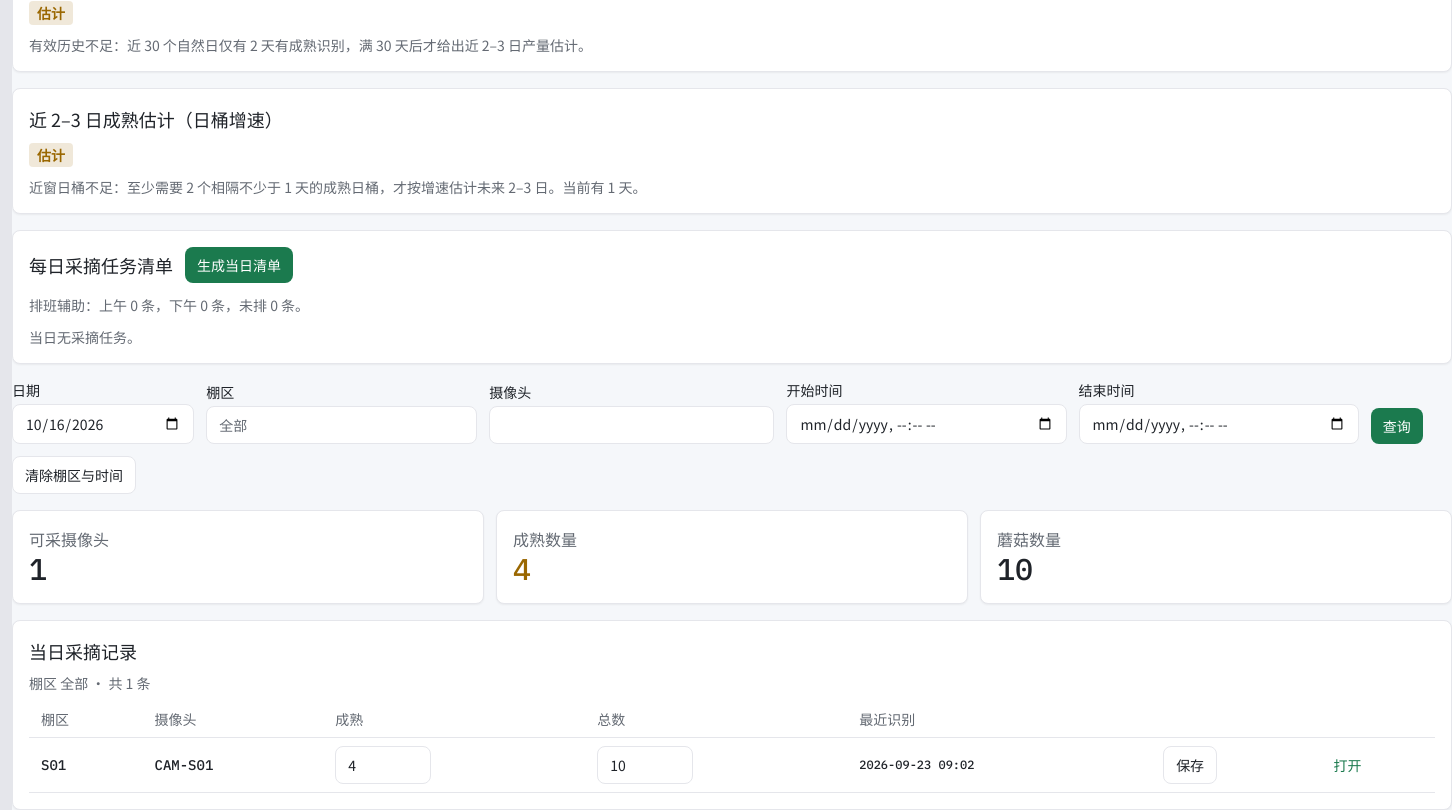
Scenario: HarvestView correction › keeps the table when saving fails
(page scrolled)
Replace the text in the number field named "CAM-S01 成熟数" with "6": (383, 765) [335,746,431,784]
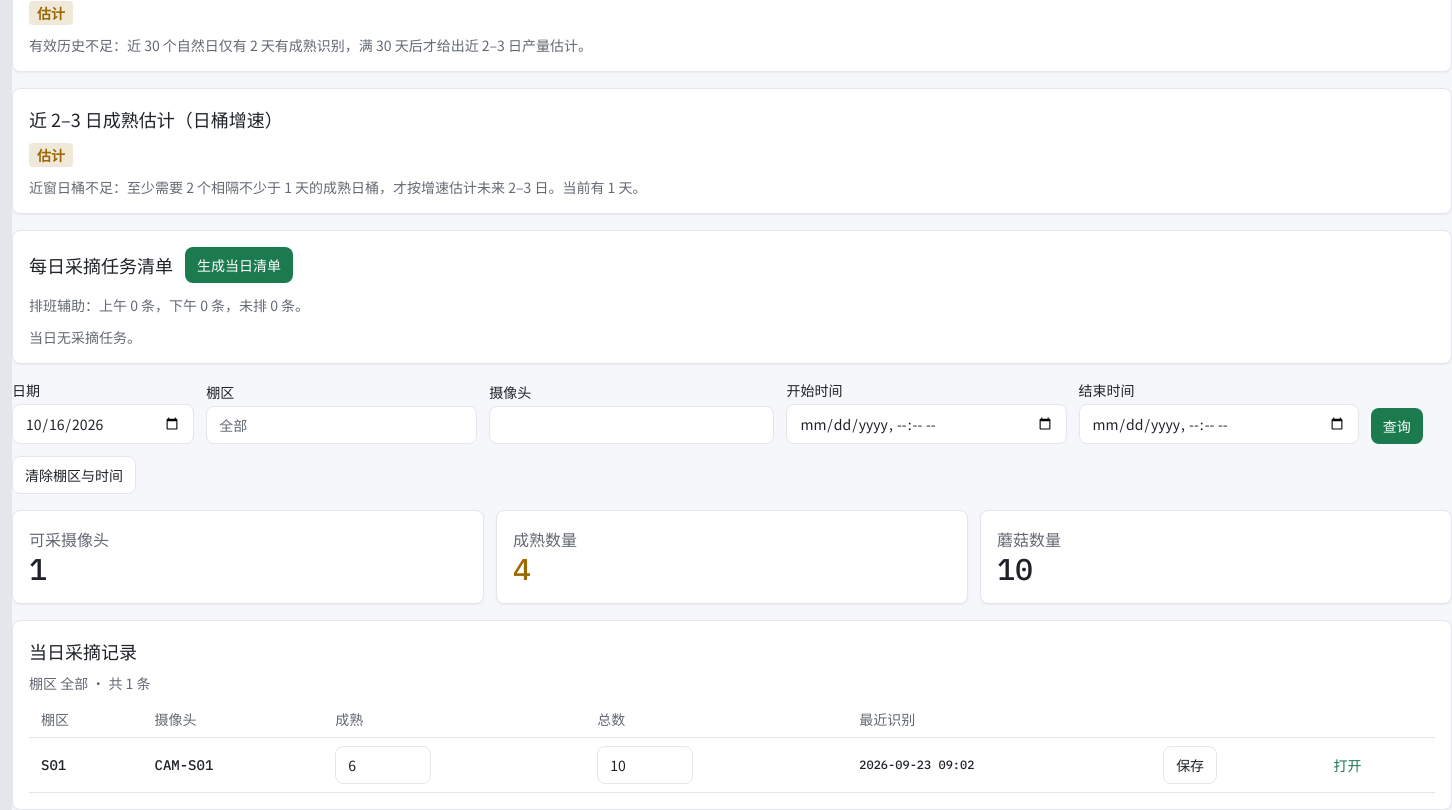
Click the button with class "btn-ghost" showing "保存": (1190, 765) [1163,746,1217,784]
(page scrolled)
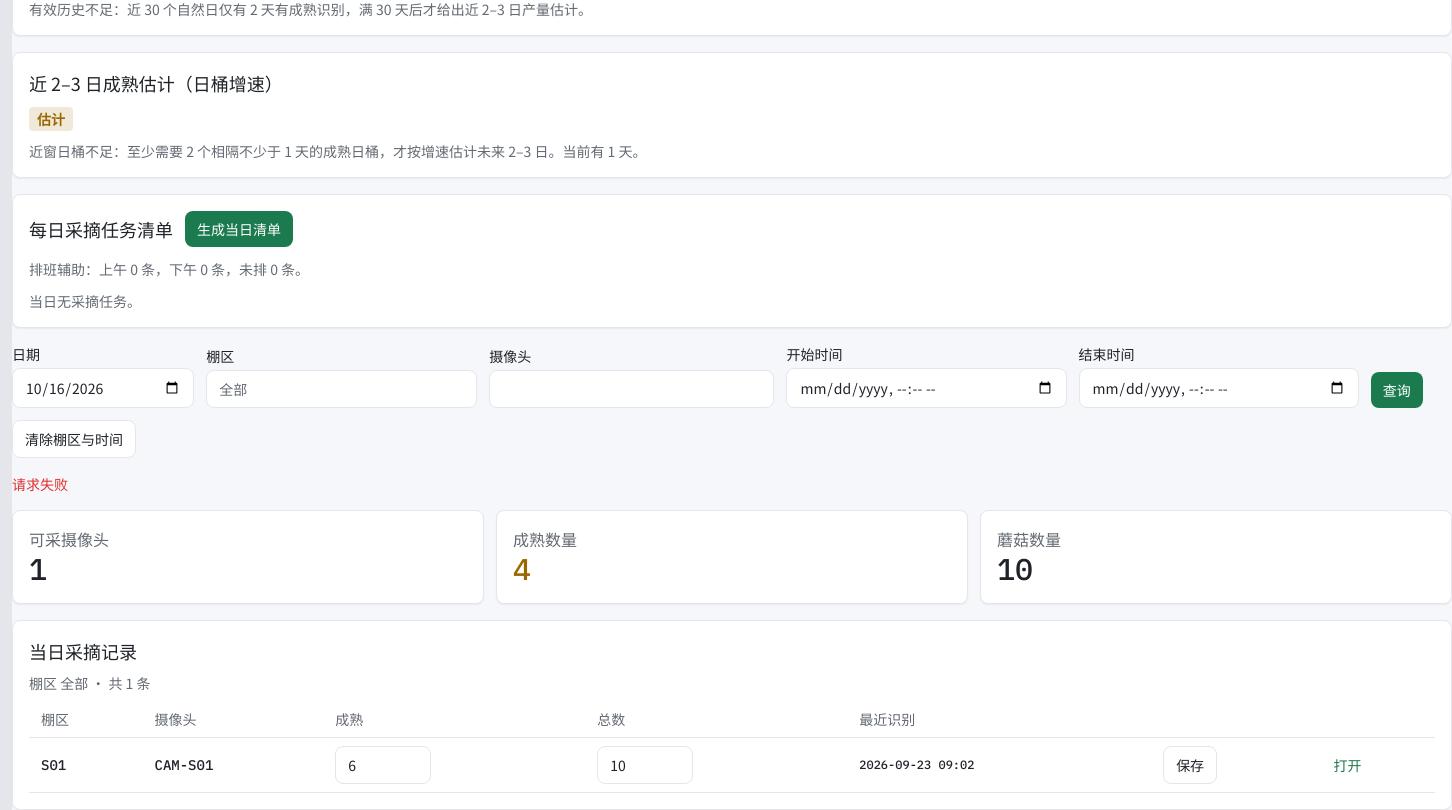
Expected: the text "CAM-S01" is shown, [142,738,323,792]
Expected: the text "请求失败" is shown, [12,474,68,494]
